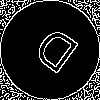D: (25, 25, 81, 84)
